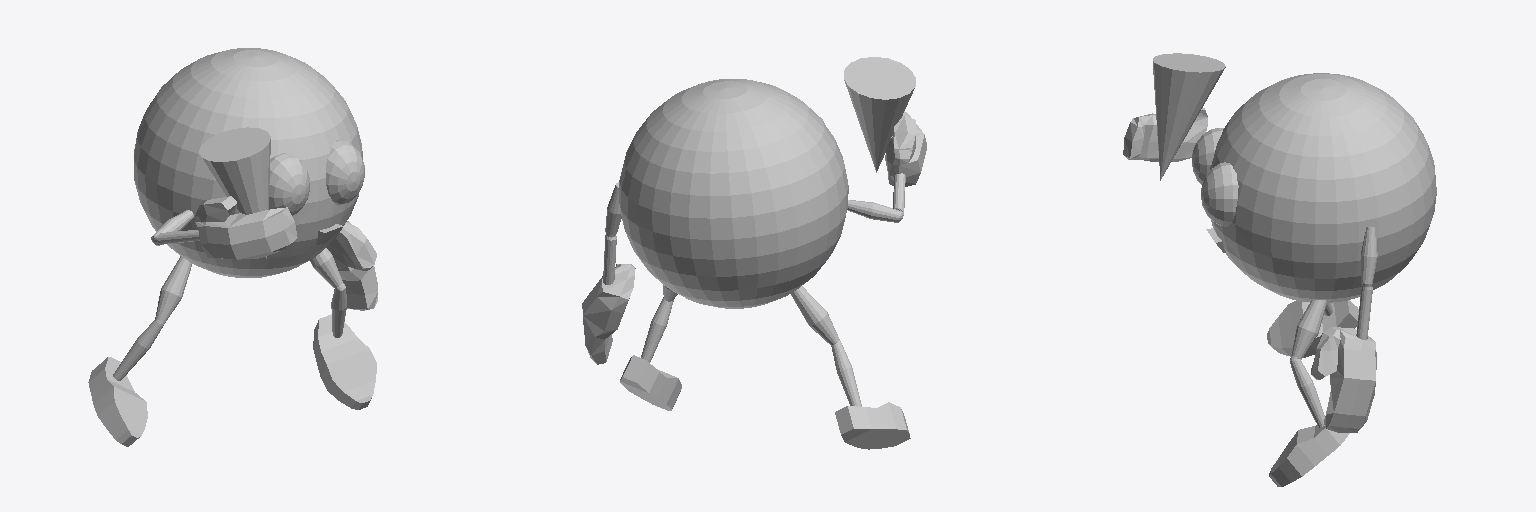
Rendered from stepLeft_000030.obj.
The picture shows the model from 3 angles: view 1: azimuth 30°, elevation 25°; view 2: azimuth 150°, elevation 25°; view 3: azimuth 270°, elevation 25°; orthographic projection.
Parts seen in each view (by area): view 1: Rusko_Sphere; view 2: Rusko_Sphere; view 3: Rusko_Sphere.
Part boxes in pixels (x1,y1,x2,y2): Rusko_Sphere: (88,48,377,446); Rusko_Sphere: (582,57,926,449); Rusko_Sphere: (1123,53,1436,486).
Bounding box in the file's own units: 5.97 × 6.83 × 5.44.